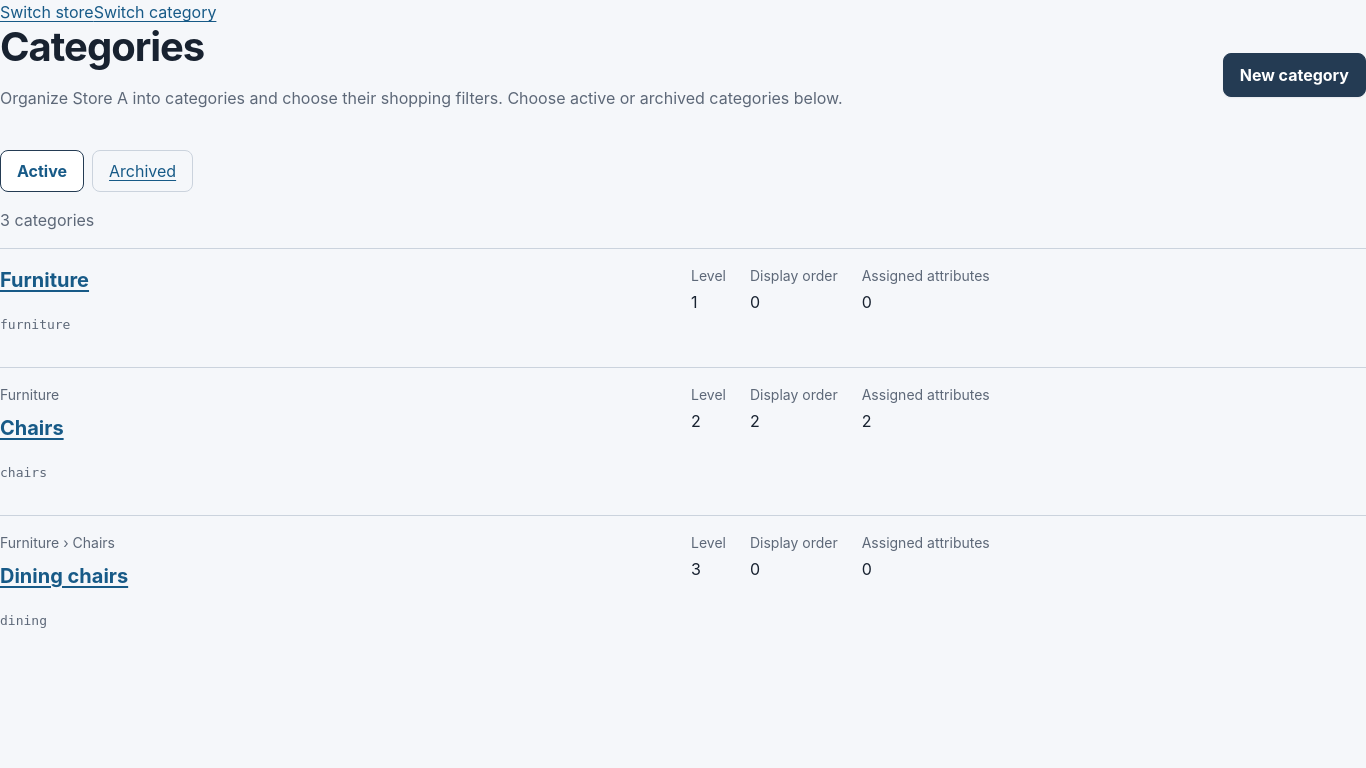
focused categories › loads only the category list, exposes hierarchy context and navigates to focused details
Expected: the link "Dining chairs" is shown, x1=0 y1=564 x2=128 y2=588
Expected: the text "Furniture › Chairs" is shown, x1=0 y1=534 x2=115 y2=551
Click the link "Chairs".
click(32, 428)  # box x1=0 y1=416 x2=64 y2=440
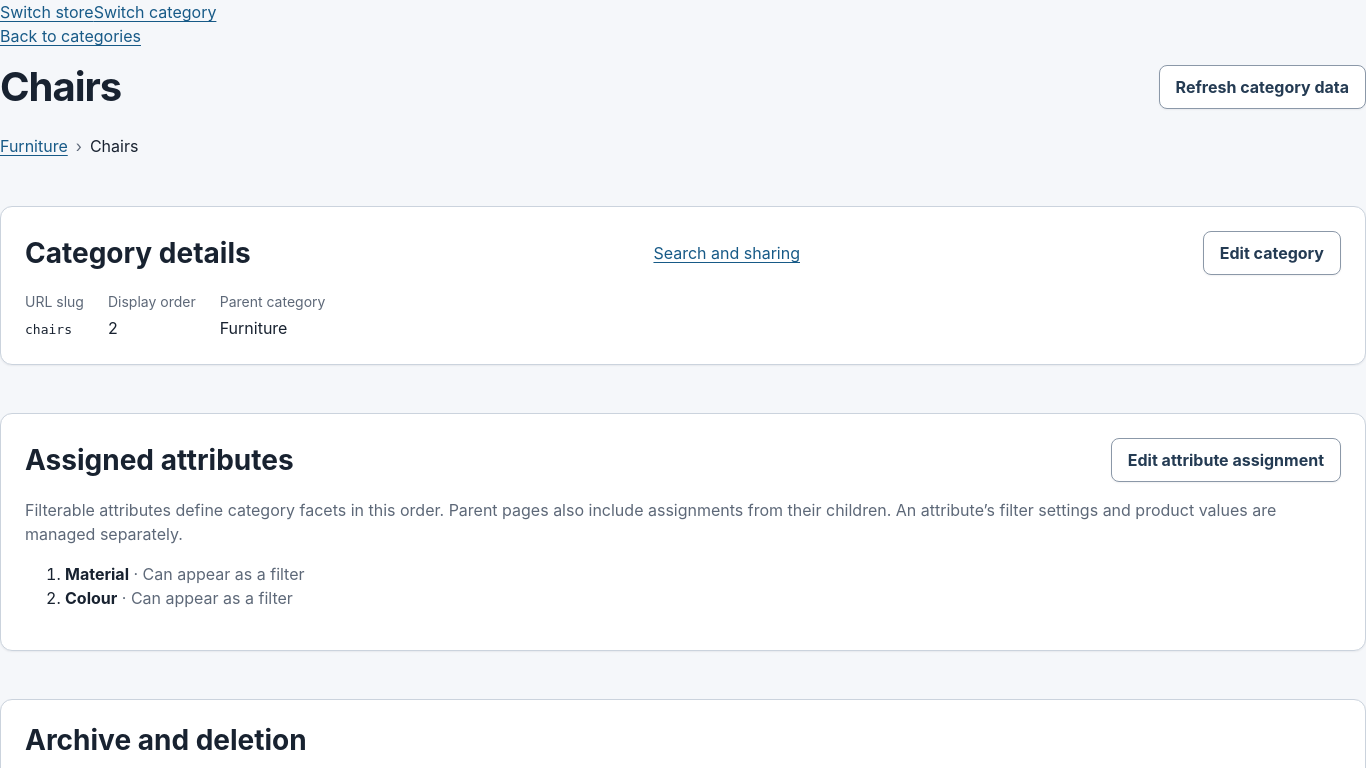
Expected: the link "Furniture" is shown, x1=0 y1=136 x2=68 y2=156
Now the heading "Chairs" is shown, box x1=0 y1=64 x2=121 y2=110
